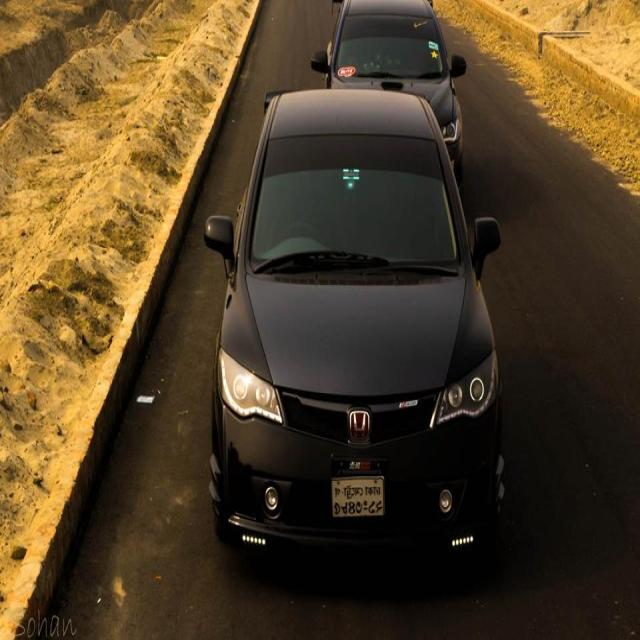numberplate: (331, 474, 386, 519)
